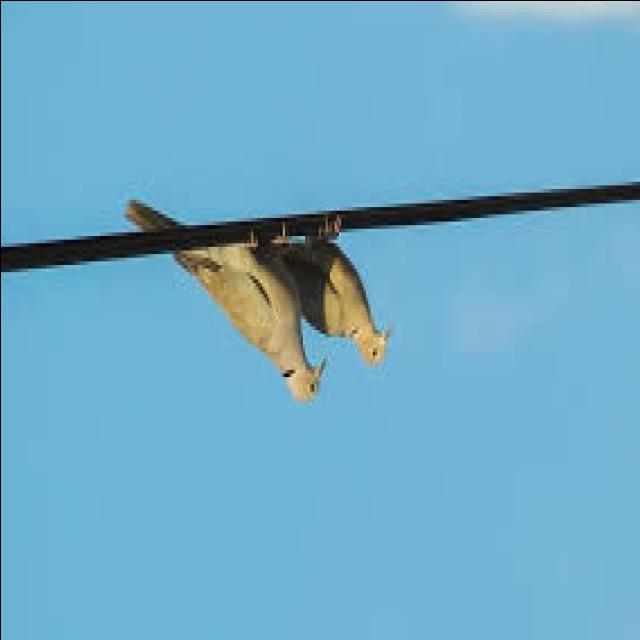pigeon: (148, 202, 328, 408)
